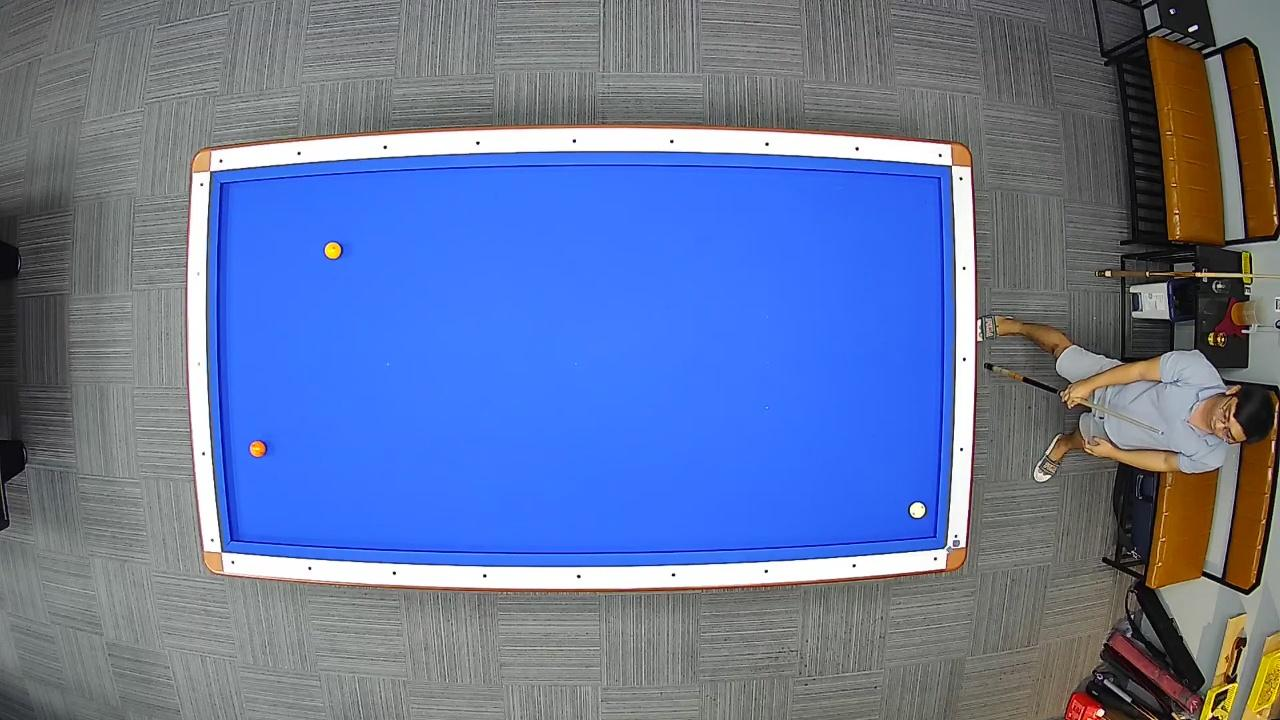Orange: (248, 439, 268, 459)
White: (908, 500, 928, 521)
Yellow: (324, 241, 342, 261)
